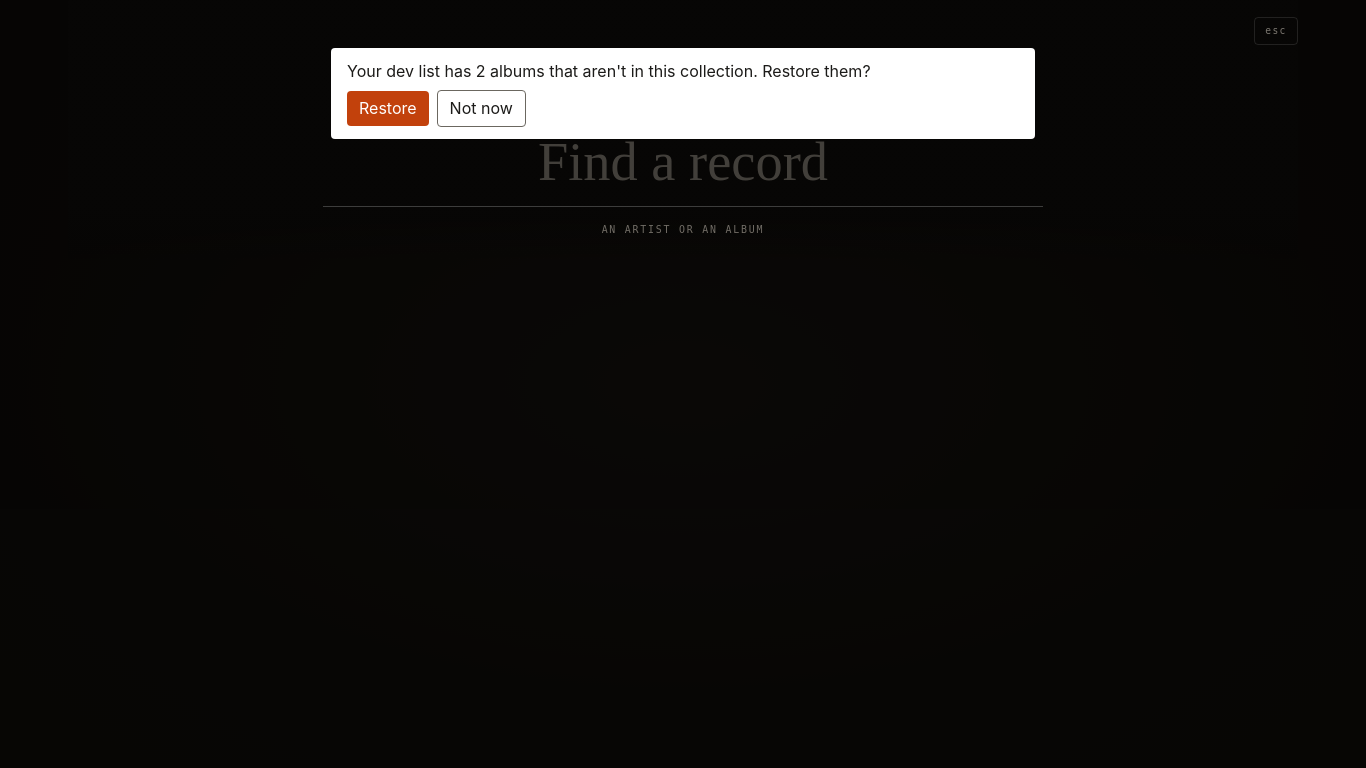
Test case: The dev list › lists the albums Spotify couldn't give back
This screenshot has width=1366, height=768.
Click the button "Restore" at (388, 109), box left=347, top=91, right=429, bottom=126
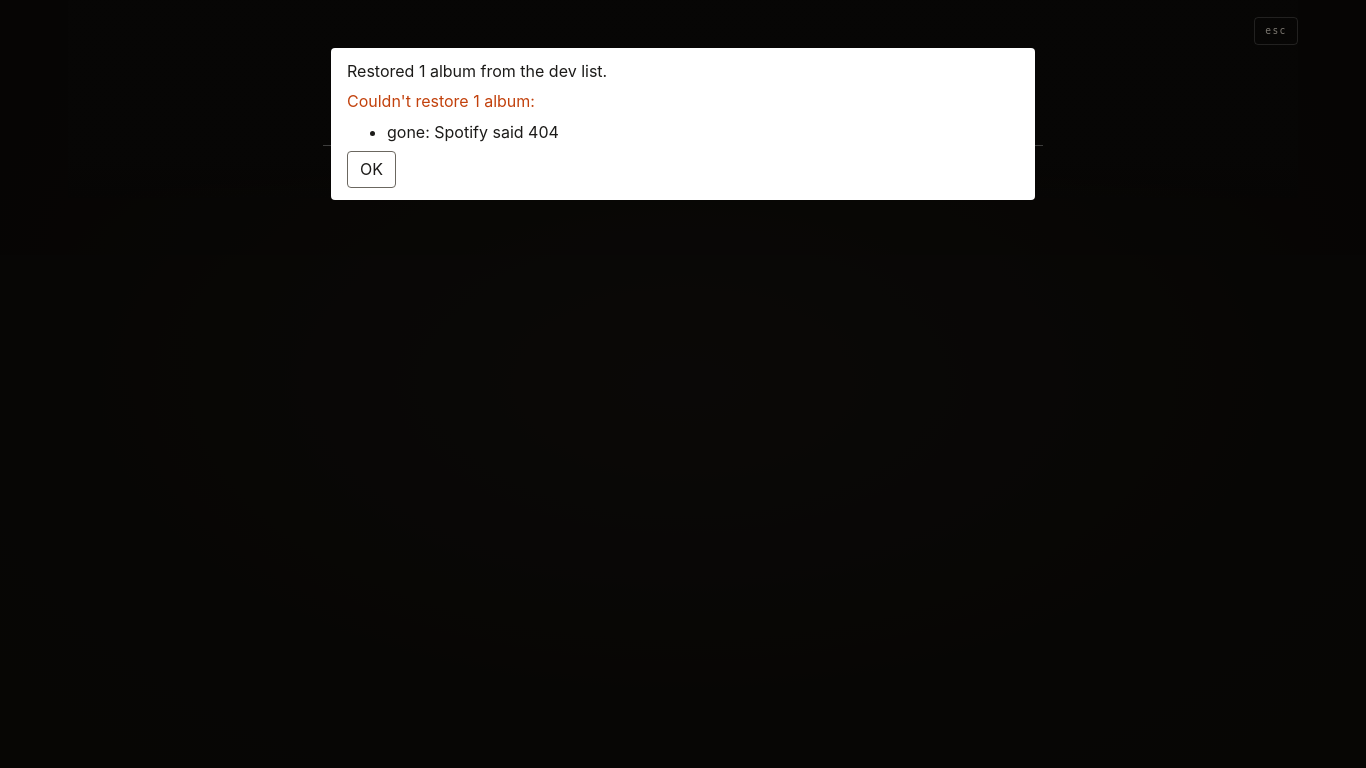
Expected: the message reads "Couldn't restore 1 album:", left=347, top=91, right=535, bottom=111
Expected: the list item "gone: Spotify said 404" is shown, left=387, top=122, right=559, bottom=142
Expected: the text "Restored 1 album from the dev list." is shown, left=347, top=61, right=607, bottom=81
